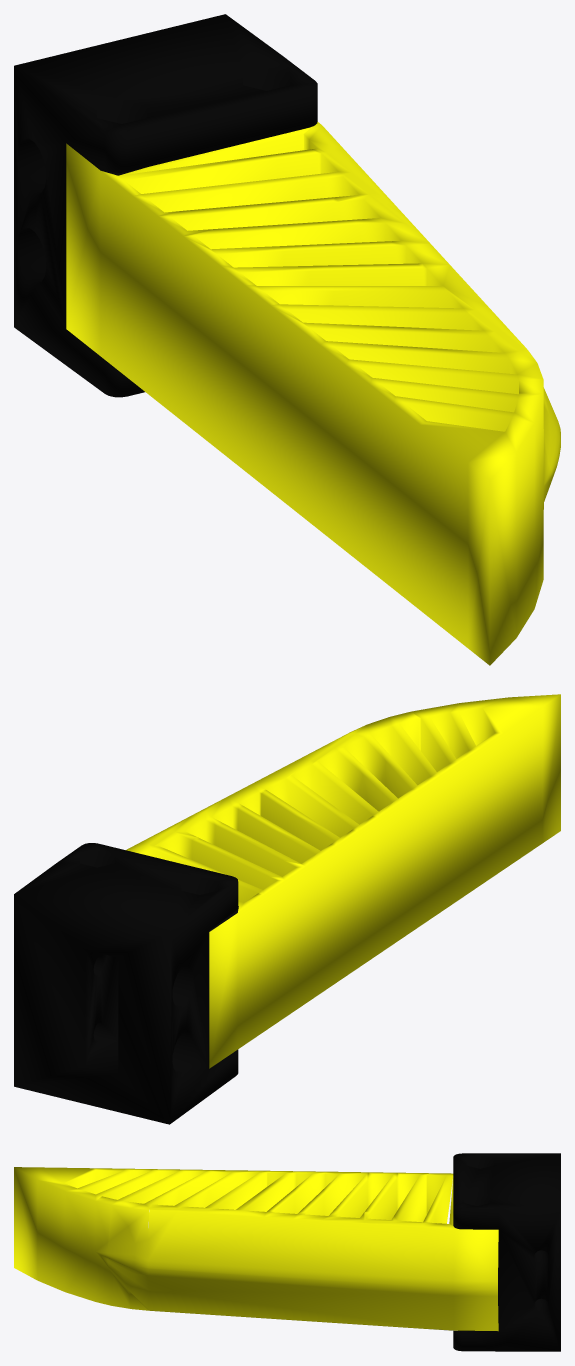
The model's file is finray_colored.obj.
The picture shows the model from 3 angles, top to bottom: view 1: azimuth 30°, elevation 25°; view 2: azimuth 150°, elevation 25°; view 3: azimuth 270°, elevation 25°; orthographic projection. The views are drawn at different scales.
Bounding box in the file's own units: 0.0384 × 0.0362 × 0.1229.
